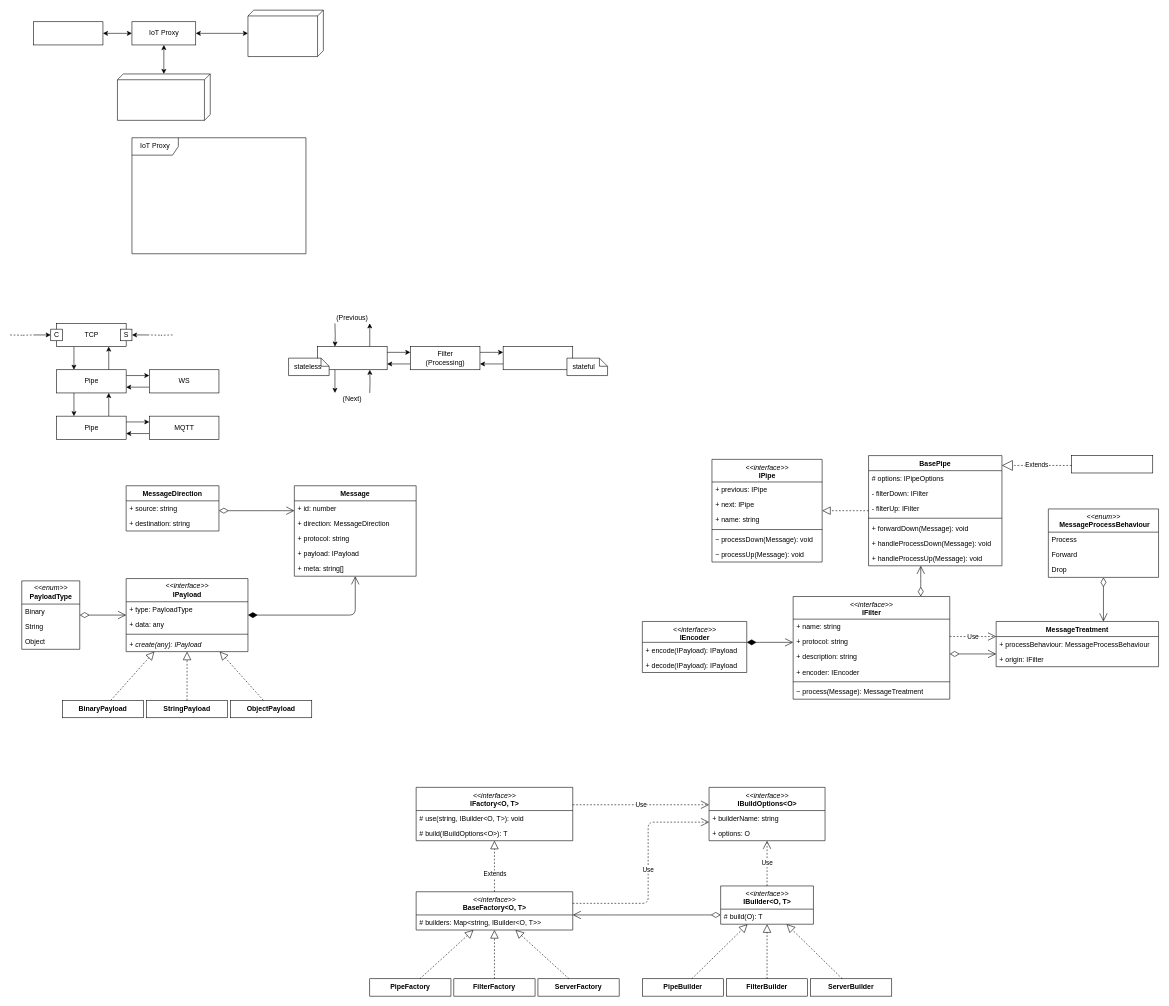
Image size: 1169x1006. Some labels were removed from this diagram. The shapes that lost their labels are listed below. From the top down, each one's centre as x and y in pixels, then its label:
[68,33]: IoT Device
[285,33]: Cloud Service (e.g. AWS)
[163,96]: 3rd Party Integrations (e.g. Burp Suite)
[352,358]: Pipe (Routing)
[538,358]: Encoder ((De-)Serializing)
[1112,464]: EndPipe
